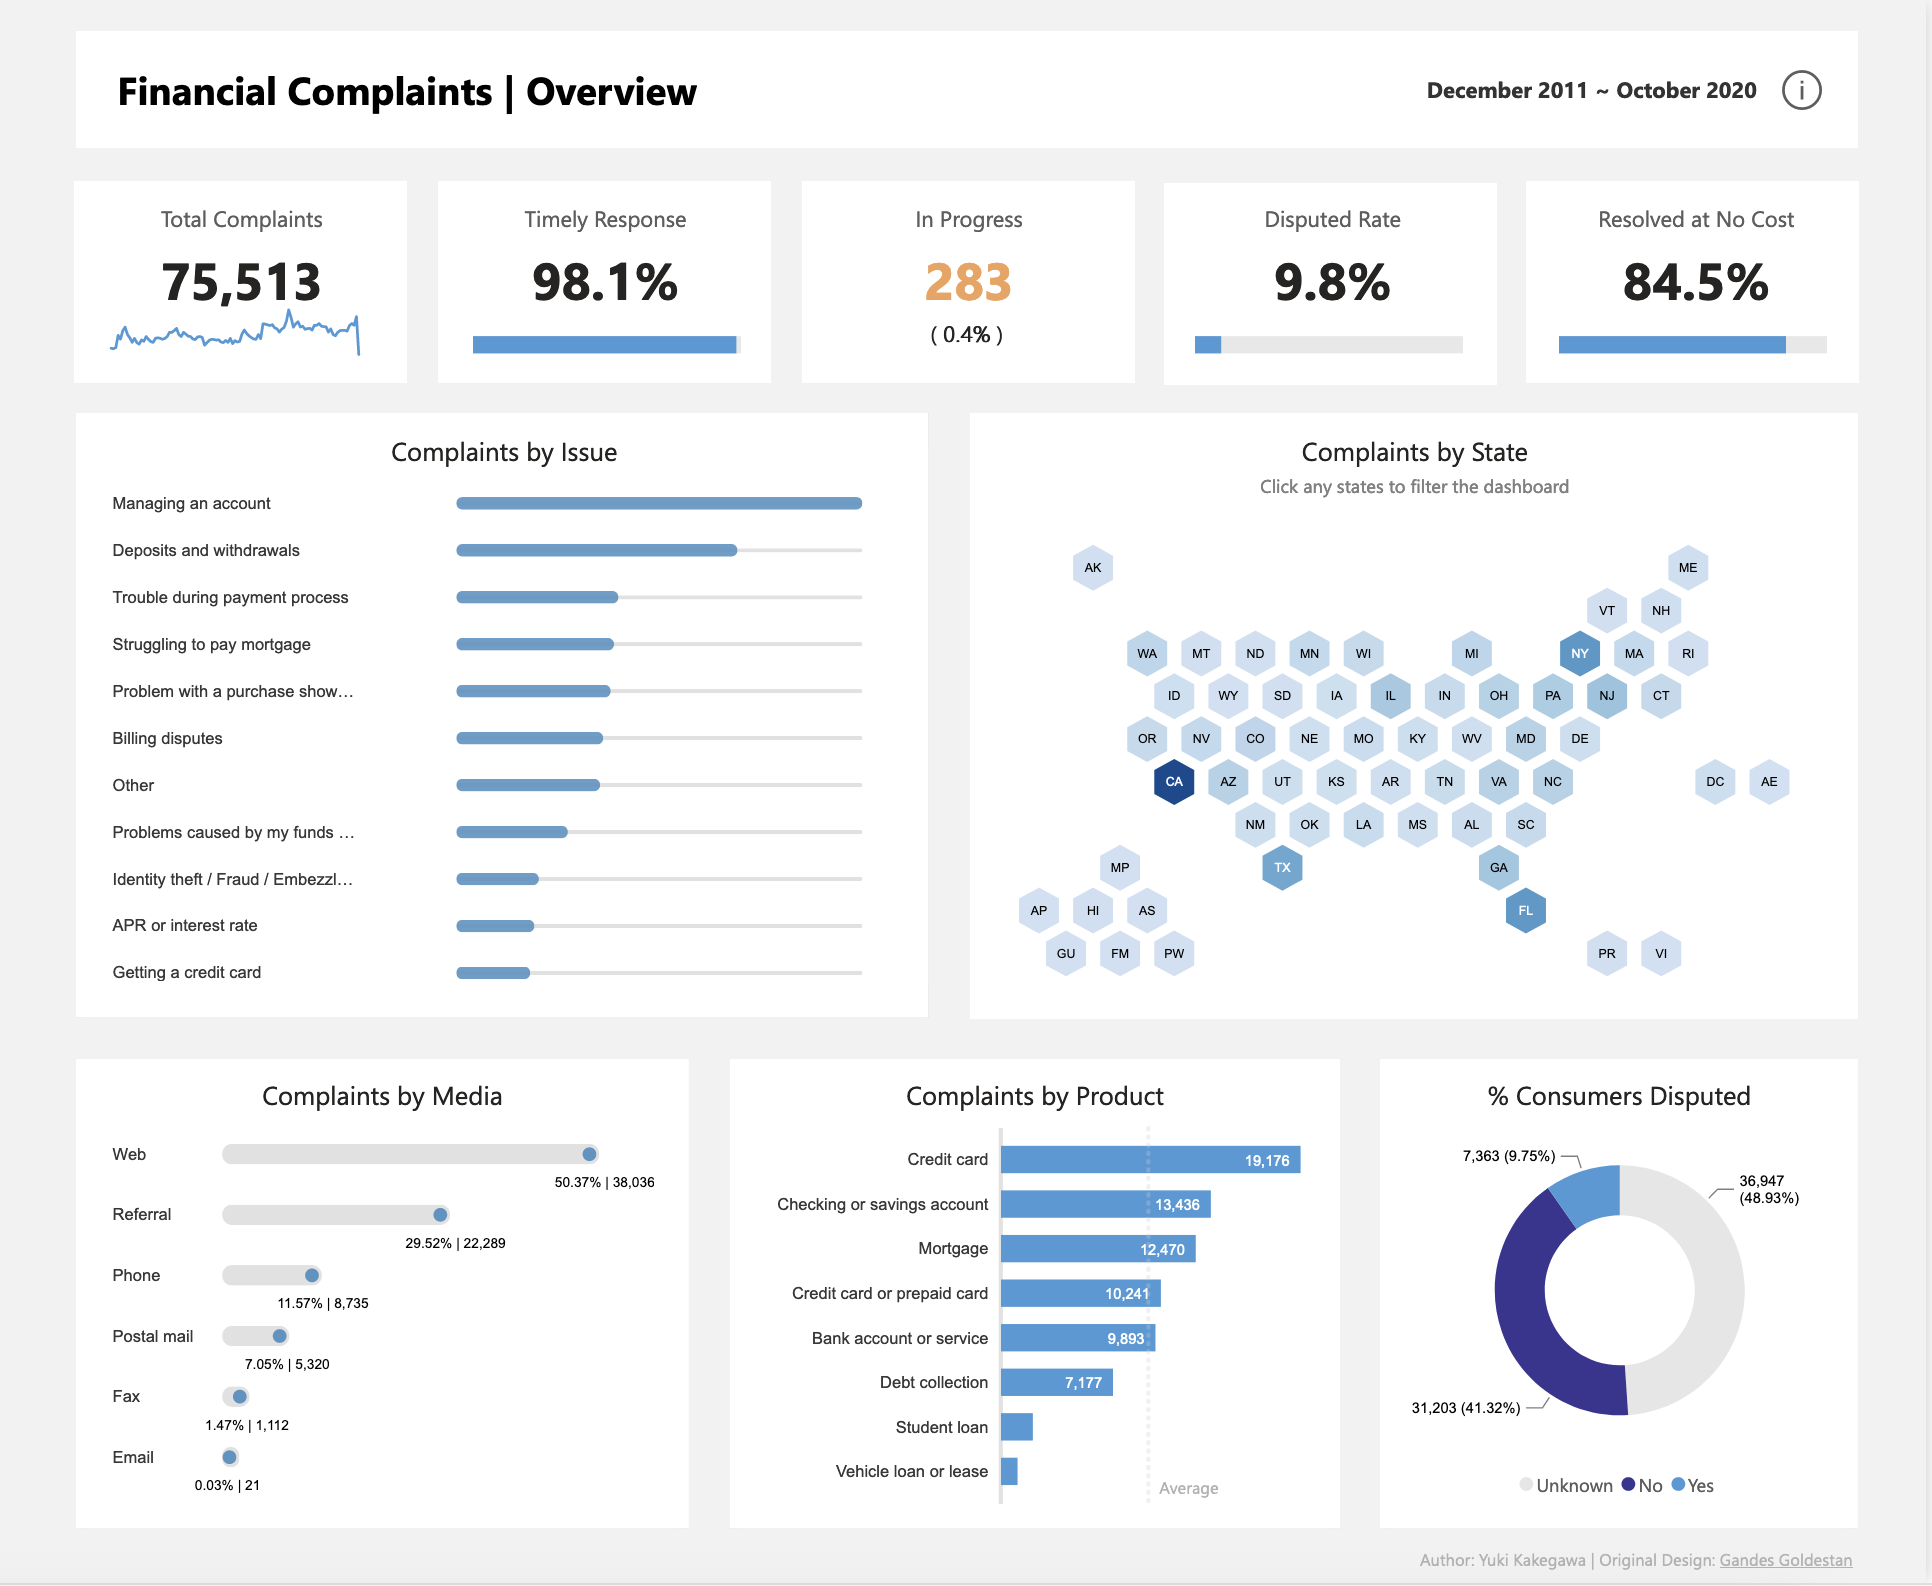

What the dashboard file says about the page in this screenshot:
{"tool":"powerbi","page":{"name":"Overview - no custom visual","canvas":[1400,1150],"ordinal":1},"visuals":[{"type":"shape","box":[56,23,1293.8,85],"z":0,"group":"g6"},{"type":"shape","box":[56,132,242,147],"z":0,"group":"g7"},{"type":"clusteredBarChart","fields":{"Y":["Complaints.100% Bar"]},"box":[864.4,214.4,205,65],"z":0,"group":"g9"},{"type":"clusteredBarChart","fields":{"Y":["Complaints.100% Bar"]},"box":[340,215,205,65],"z":0,"group":"g8"},{"type":"clusteredBarChart","fields":{"Y":["Complaints.100% Bar"]},"box":[1128.9,215.6,205,65],"z":0,"group":"g10"},{"type":"shape","box":[705.9,300.5,645,440],"z":0,"group":"g1"},{"type":"shape","box":[57,301,619,439],"z":0,"group":"g2"},{"type":"shape","box":[55.9,769.5,445,341],"z":0,"group":"g3"},{"type":"shape","box":[530.9,769.5,443,341],"z":0,"group":"g4"},{"type":"shape","box":[1003.9,769.5,347,341],"z":0,"group":"g5"},{"type":"textbox","box":[1024.1,49.2,264,34],"z":1000,"group":"g6"},{"type":"shape","box":[583,132,242,147],"z":1000},{"type":"lineChart","fields":{"Y":["Complaints.Total Complaints"],"Category":["Date.Month Offset"]},"box":[55.6,206.7,284.4,63.3],"z":1000,"group":"g7"},{"type":"clusteredBarChart","fields":{"Y":["Complaints.Disputed Rate"]},"box":[864.4,214.4,205,65],"z":1000,"group":"g9"},{"type":"clusteredBarChart","fields":{"Y":["Complaints.Timely Response Rate"]},"box":[340,215,205,65],"z":1000,"group":"g8"},{"type":"clusteredBarChart","fields":{"Y":["Complaints.% Complaints Resolved at No Cost"]},"box":[1128.9,215.6,205,65],"z":1000,"group":"g10"},{"type":"shapeMap","title":"Complaints by State","fields":{"Value":["Complaints.Complaint Count"],"Category":["Company.State"]},"box":[705.9,314.5,645,405],"z":1000,"group":"g1"},{"type":"barChart","title":"Complaints by Issue","fields":{"Category":["Issues.Issue"],"Y":["Complaints.Complaint Count"]},"box":[72,315,590,403],"z":1000,"group":"g2"},{"type":"barChart","title":"Complaints by Media","fields":{"Y":["Complaints.Complaint Count"],"Category":["Complaint Detail.Submitted via"]},"box":[70.9,782.5,416,315],"z":1000,"group":"g3"},{"type":"barChart","title":"Complaints by Product","fields":{"Y":["Complaints.Complaint Count"],"Category":["Product.Product"]},"box":[545.9,782.5,414,315],"z":1000,"group":"g4"},{"type":"donutChart","title":"% Consumers Disputed","fields":{"Y":["Complaints.Complaint Count"],"Category":["Complaint Detail.Consumer disputed?"]},"box":[1003.9,782.5,348,315],"z":1000,"group":"g5"},{"type":"actionButton","box":[1288.1,46.2,41,40],"z":2000,"group":"g6"},{"type":"shape","box":[319.5,132,242,147],"z":2000},{"type":"shape","box":[846.5,133,242,147],"z":3000},{"type":"shape","box":[1110,132,242,147],"z":4000},{"type":"group","id":"g1","title":"Group 1","box":[705.9,300.5,645,440],"z":5000},{"type":"group","id":"g2","title":"Group 2","box":[57,301,619,440],"z":6000},{"type":"group","id":"g3","title":"Group 3","box":[55.9,769.5,445,341],"z":7000},{"type":"group","id":"g4","title":"Group 4","box":[530.9,769.5,443,341],"z":8000},{"type":"group","id":"g5","title":"Group 5","box":[1003.9,769.5,348,341],"z":9000},{"type":"textbox","box":[712,1118,640,28],"z":10000},{"type":"group","id":"g6","title":"Group 6","box":[56,23,1294,85],"z":11000},{"type":"group","id":"g7","title":"Group 7","box":[55.6,132,284.4,147],"z":12000},{"type":"group","id":"g8","title":"Group 8","box":[340,215,205,65],"z":13000},{"type":"group","id":"g9","title":"Group 9","box":[864.4,214.4,205.6,64.4],"z":14000},{"type":"group","id":"g10","title":"Group 10","box":[1128.9,215.6,205.6,64.4],"z":15000},{"type":"textbox","box":[651.1,226.7,105.6,40],"z":16000},{"type":"cardVisual","fields":{"Data":["Complaints.Total Complaints","Complaints.Timely Response Rate","Complaints.Complaints in Progress","Complaints.Disputed Rate","Complaints.% Complaints Resolved at No Cost"]},"box":[46.7,132.2,1318.9,106.7],"z":16500}]}

Visuals, with their boxes in screenshot pixels (x1, y1, x2, y2), scaled from the page's 1400x1150 canvas onto the 1932x1586 screenshot:
shape: region(77, 32, 1863, 149)
shape: region(77, 182, 411, 385)
clusteredBarChart - Complaints.100% Bar: region(1193, 296, 1476, 385)
clusteredBarChart - Complaints.100% Bar: region(469, 297, 752, 386)
clusteredBarChart - Complaints.100% Bar: region(1558, 297, 1841, 387)
shape: region(974, 414, 1864, 1021)
shape: region(79, 415, 933, 1021)
shape: region(77, 1061, 691, 1532)
shape: region(733, 1061, 1344, 1532)
shape: region(1385, 1061, 1864, 1532)
textbox: region(1413, 68, 1778, 115)
shape: region(805, 182, 1138, 385)
lineChart - Complaints.Total Complaints x Date.Month Offset: region(77, 285, 469, 372)
clusteredBarChart - Complaints.Disputed Rate: region(1193, 296, 1476, 385)
clusteredBarChart - Complaints.Timely Response Rate: region(469, 297, 752, 386)
clusteredBarChart - Complaints.% Complaints Resolved at No Cost: region(1558, 297, 1841, 387)
"Complaints by State" shapeMap: region(974, 434, 1864, 992)
"Complaints by Issue" barChart: region(99, 434, 914, 990)
"Complaints by Media" barChart: region(98, 1079, 672, 1514)
"Complaints by Product" barChart: region(753, 1079, 1325, 1514)
"% Consumers Disputed" donutChart: region(1385, 1079, 1866, 1514)
actionButton: region(1778, 64, 1834, 119)
shape: region(441, 182, 775, 385)
shape: region(1168, 183, 1502, 386)
shape: region(1532, 182, 1866, 385)
"Group 1" group: region(974, 414, 1864, 1021)
"Group 2" group: region(79, 415, 933, 1022)
"Group 3" group: region(77, 1061, 691, 1532)
"Group 4" group: region(733, 1061, 1344, 1532)
"Group 5" group: region(1385, 1061, 1866, 1532)
textbox: region(983, 1542, 1866, 1580)
"Group 6" group: region(77, 32, 1863, 149)
"Group 7" group: region(77, 182, 469, 385)
"Group 8" group: region(469, 297, 752, 386)
"Group 9" group: region(1193, 296, 1477, 385)
"Group 10" group: region(1558, 297, 1842, 386)
textbox: region(899, 313, 1044, 368)
cardVisual - Complaints.Total Complaints x Complaints.Timely Response Rate: region(64, 182, 1885, 329)
